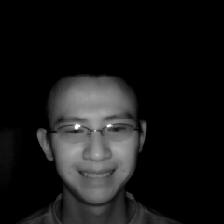happy: (31, 68, 154, 206)
